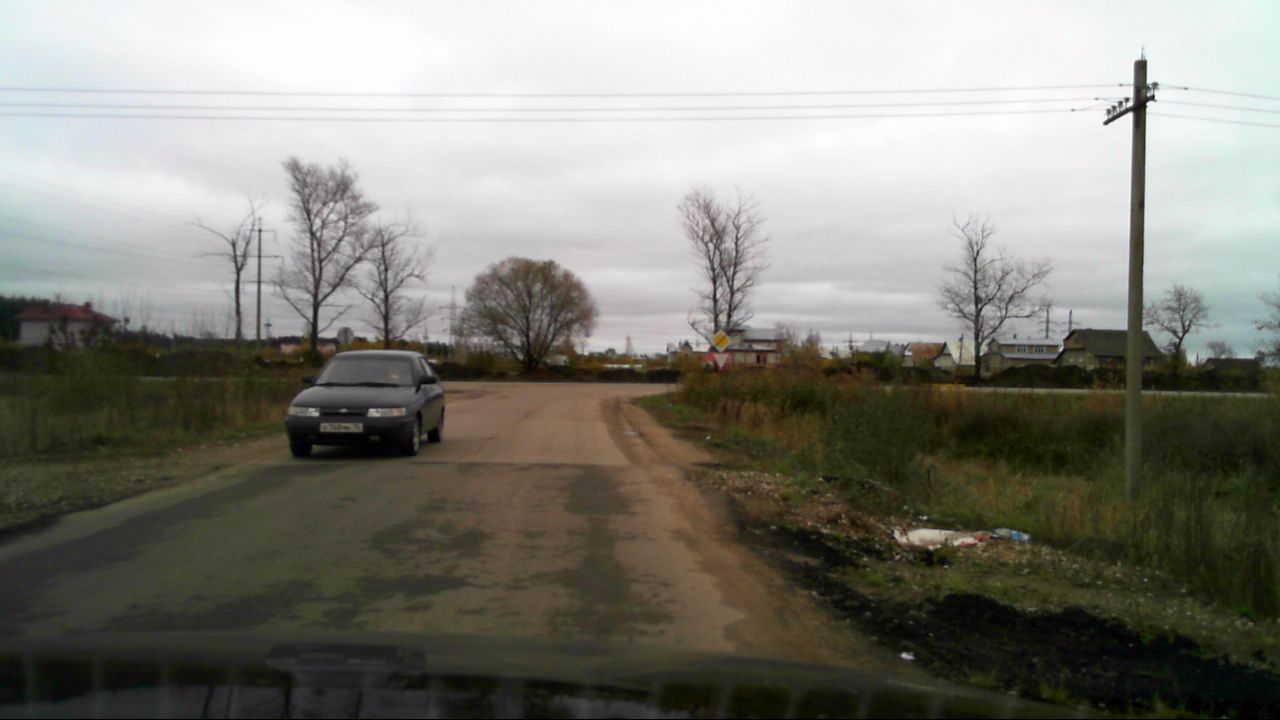main road: (708, 330, 731, 351)
